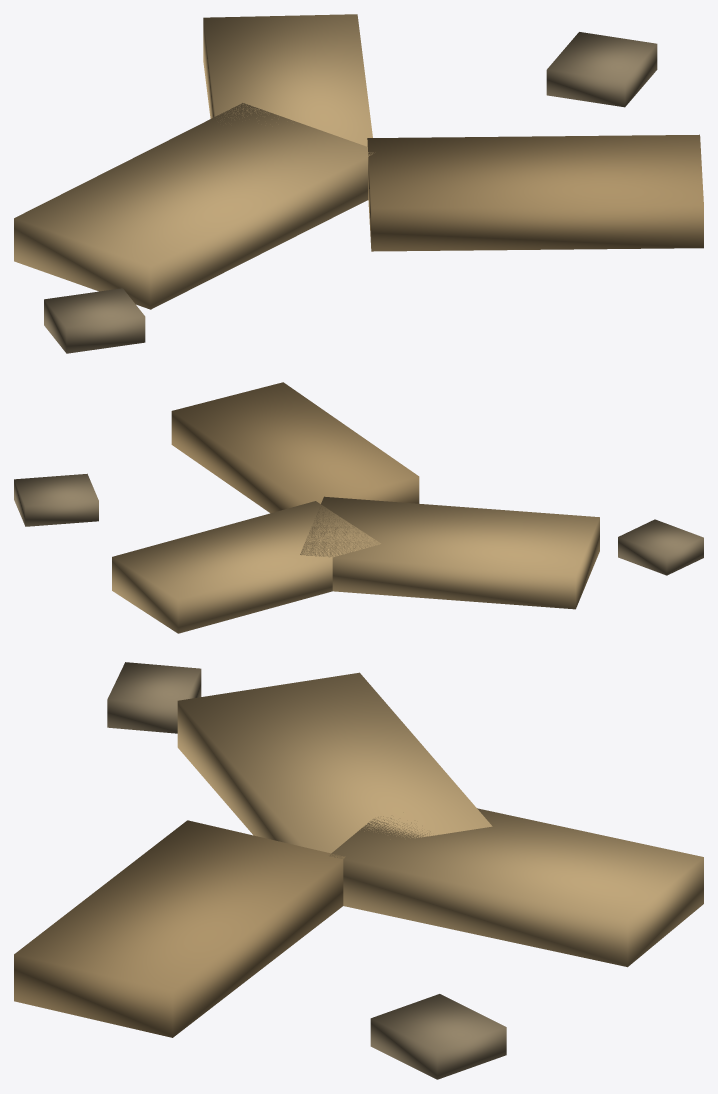
File: tijolos-soltos.glb
3 renders of one model, top to bottom at view 1: azimuth 30°, elevation 25°; view 2: azimuth 150°, elevation 25°; view 3: azimuth 270°, elevation 25°, orthographic. The views are drawn at different scales.
Visible parts, largest first — view 1: TijolosSoltos; view 2: TijolosSoltos; view 3: TijolosSoltos.
Boxes of the visible parts, x1=… form: TijolosSoltos: x1=14, y1=14, x2=703, y2=353; TijolosSoltos: x1=14, y1=382, x2=703, y2=633; TijolosSoltos: x1=14, y1=662, x2=703, y2=1079.
Size of the model in its own units: 0.7134 by 0.04 by 0.5339.
